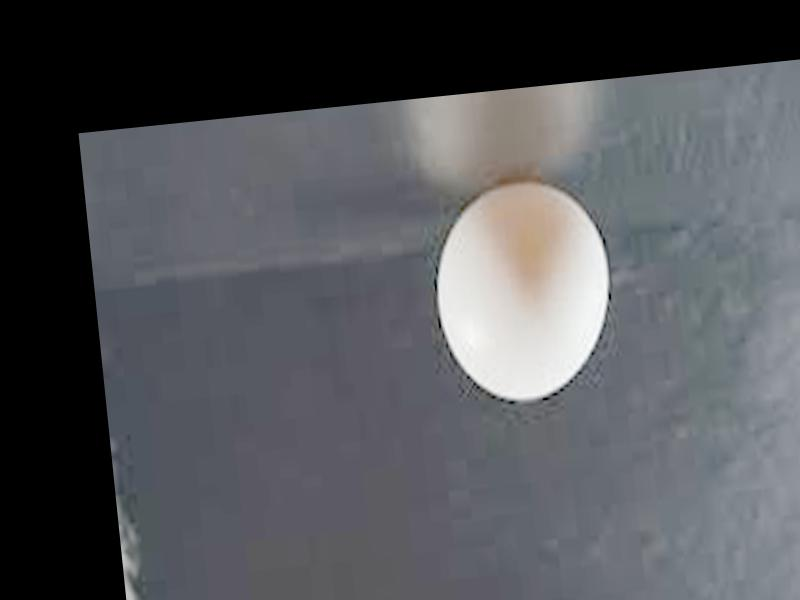Eggs: (428, 175, 621, 412)
